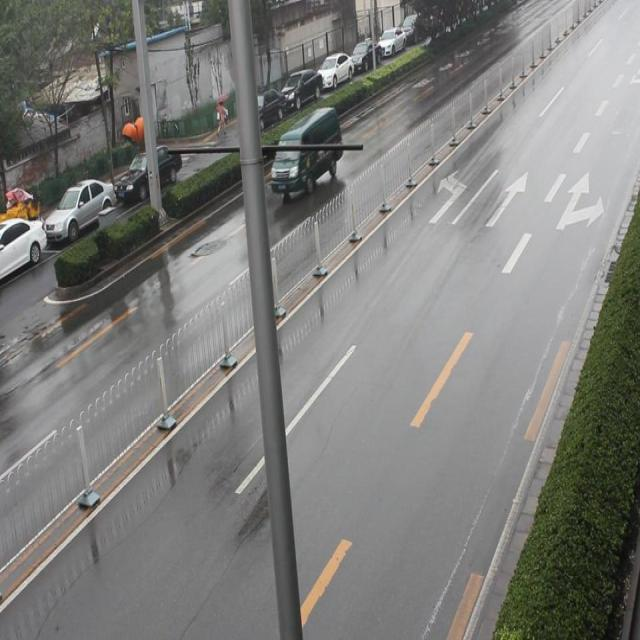truck: (266, 102, 344, 198)
